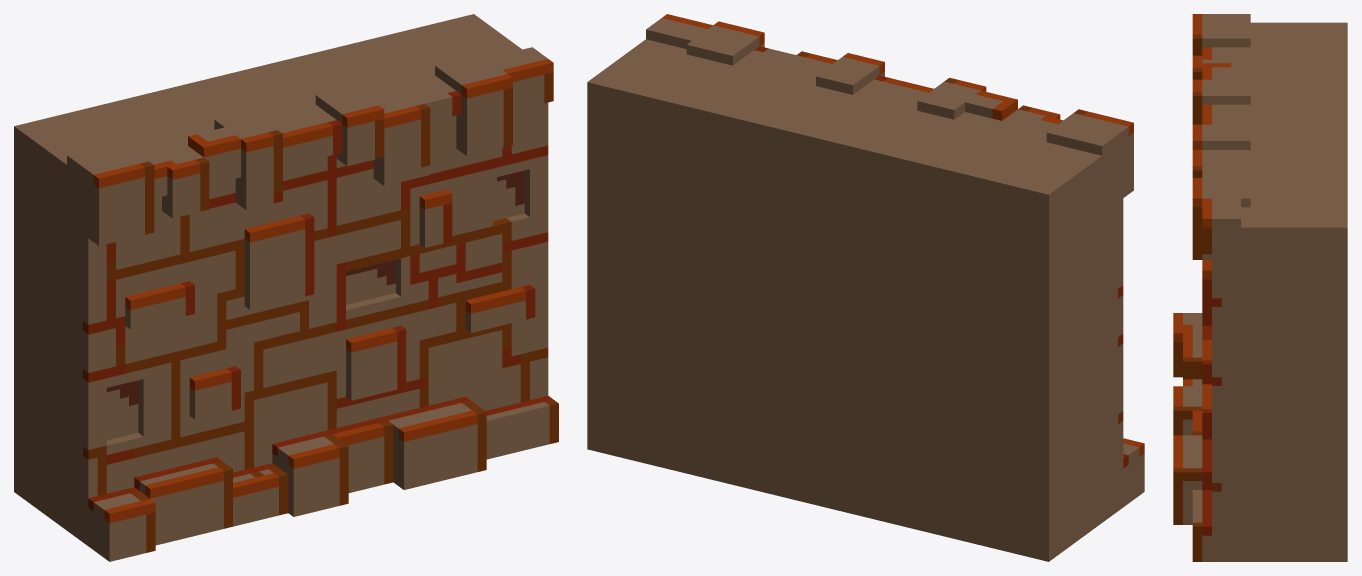
The model's file is wall.obj.
3 views of the same model, side by side, from view 1: azimuth 30°, elevation 25°; view 2: azimuth 150°, elevation 25°; view 3: azimuth 270°, elevation 25° (orthographic). The views are drawn at different scales.
Size of the model in its own units: 5 by 3.9 by 1.8.
Materials: 1 (1 with a texture image).
